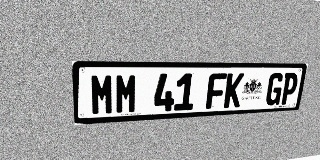1: (174, 73, 196, 111)
4: (153, 73, 176, 112)
F: (206, 73, 227, 109)
G: (264, 73, 285, 106)
K: (223, 73, 244, 108)
M: (90, 74, 114, 116), (115, 74, 138, 114)
P: (279, 73, 299, 105)
